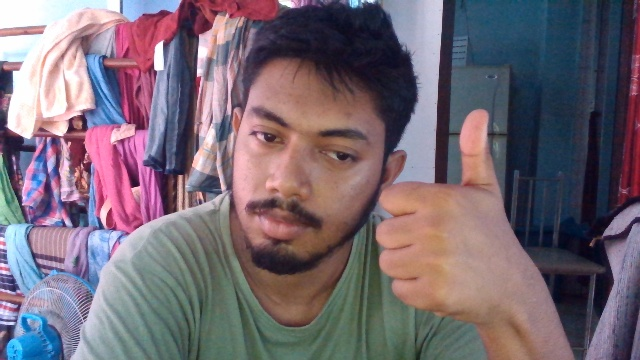yes: (380, 104, 537, 337)
